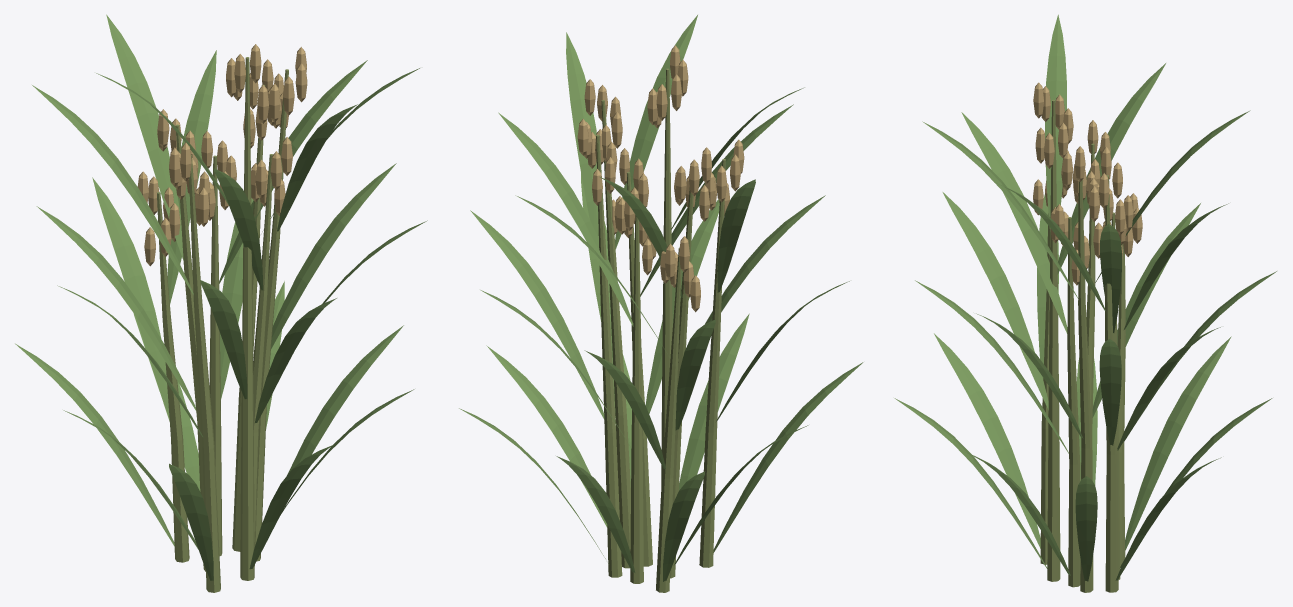
Rendered from water-reed.glb.
3 renders of one model, left to right at view 1: azimuth 30°, elevation 25°; view 2: azimuth 150°, elevation 25°; view 3: azimuth 270°, elevation 25°, orthographic. The views are drawn at different scales.
Visible parts, largest first — view 1: water-reed; view 2: water-reed; view 3: water-reed.
Part boxes in pixels (left/top/right/bottom): water-reed: left=15, top=14, right=427, bottom=592; water-reed: left=459, top=15, right=863, bottom=592; water-reed: left=894, top=14, right=1276, bottom=592.
Bounding box in the file's own units: 0.7243 × 1 × 0.7033.
